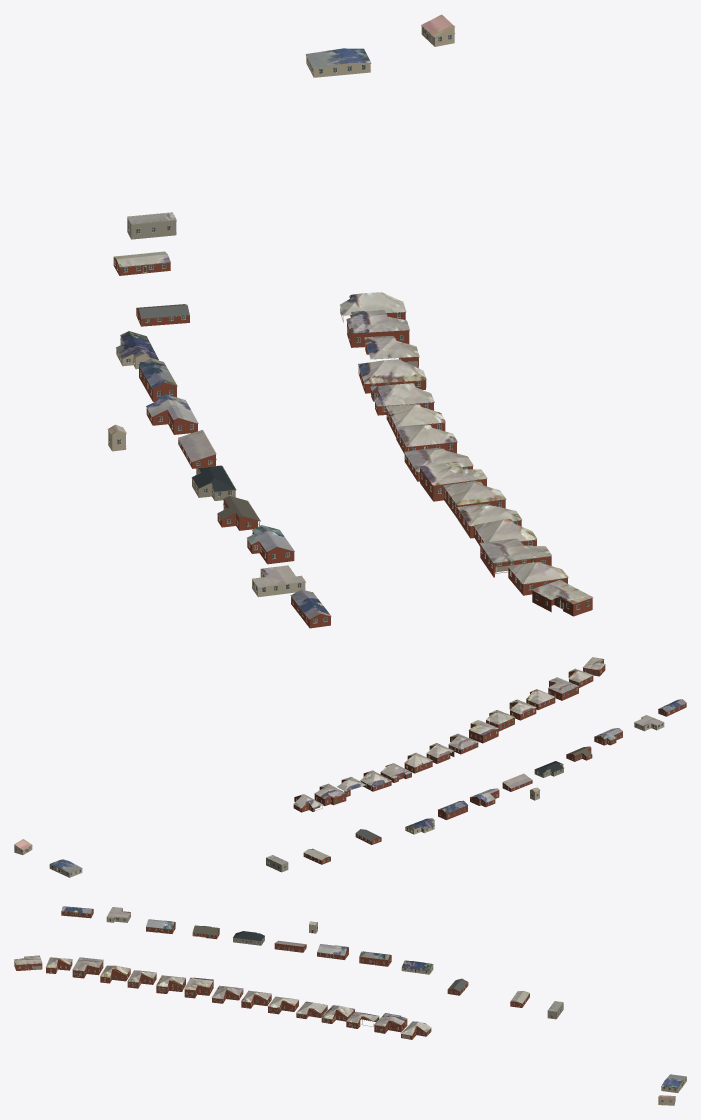
3 renders of one model, top to bottom at view 1: azimuth 30°, elevation 25°; view 2: azimuth 150°, elevation 25°; view 3: azimuth 270°, elevation 25°, orthographic. The views are drawn at different scales.
Parts seen in each view (by area): view 1: -1_8_605678108_1, -1_8_607958300_3, -1_8_607958304_6; view 2: -1_8_605678108_1, -1_8_607958300_3, -1_8_607958304_6; view 3: -1_8_605678108_1, -1_8_607958300_3, -1_8_607958304_6.
Boxes of the visible parts, x1,y1,x2,y2 form: -1_8_605678108_1: (108,14,593,623); -1_8_607958300_3: (113,257,592,628); -1_8_607958304_6: (137,304,259,520); -1_8_605678108_1: (14,657,686,877); -1_8_607958300_3: (293,660,686,864); -1_8_607958304_6: (356,746,591,840); -1_8_605678108_1: (14,906,686,1105); -1_8_607958300_3: (14,909,529,1039); -1_8_607958304_6: (192,925,467,991).
Bounding box in the file's own units: 299 × 22.55 × 466.
14 materials, 1 textured.
